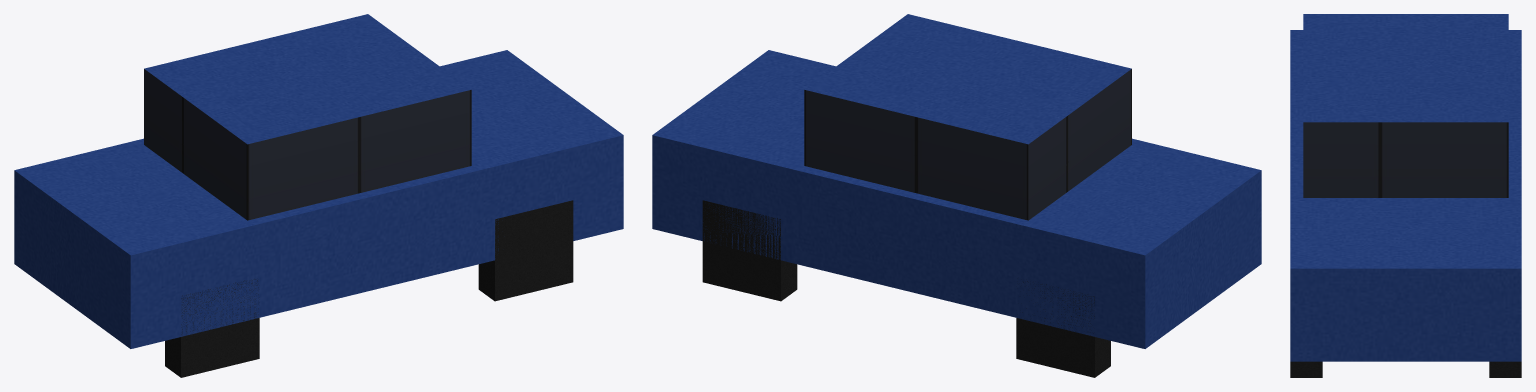
The model's file is car_blue.obj.
3 renders of one model, left to right at view 1: azimuth 30°, elevation 25°; view 2: azimuth 150°, elevation 25°; view 3: azimuth 270°, elevation 25°, orthographic.
Parts seen in each view (by area): view 1: Body_Paint_blue, Cabin_Glass, Cabin_Paint_blue, Wheels_Tire; view 2: Body_Paint_blue, Cabin_Glass, Cabin_Paint_blue, Wheels_Tire; view 3: Body_Paint_blue, Cabin_Paint_blue, Cabin_Glass, Wheels_Tire.
Boxes of the visible parts, x1,y1,x2,y2 form: Body_Paint_blue: (14,50,623,348); Cabin_Glass: (144,69,471,220); Cabin_Paint_blue: (144,14,471,144); Wheels_Tire: (165,200,573,377); Body_Paint_blue: (652,50,1261,348); Cabin_Glass: (804,69,1131,220); Cabin_Paint_blue: (804,14,1131,144); Wheels_Tire: (702,200,1110,377); Body_Paint_blue: (1290,30,1521,361); Cabin_Paint_blue: (1303,14,1508,122); Cabin_Glass: (1303,122,1508,197); Wheels_Tire: (1290,361,1521,377).
Bounding box in the file's own units: 4.4 × 1.8 × 1.8.
Materials: 3 (3 with a texture image).
